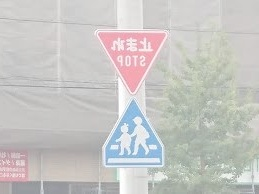Regulatory_sign_triangle: (95, 27, 169, 96)
